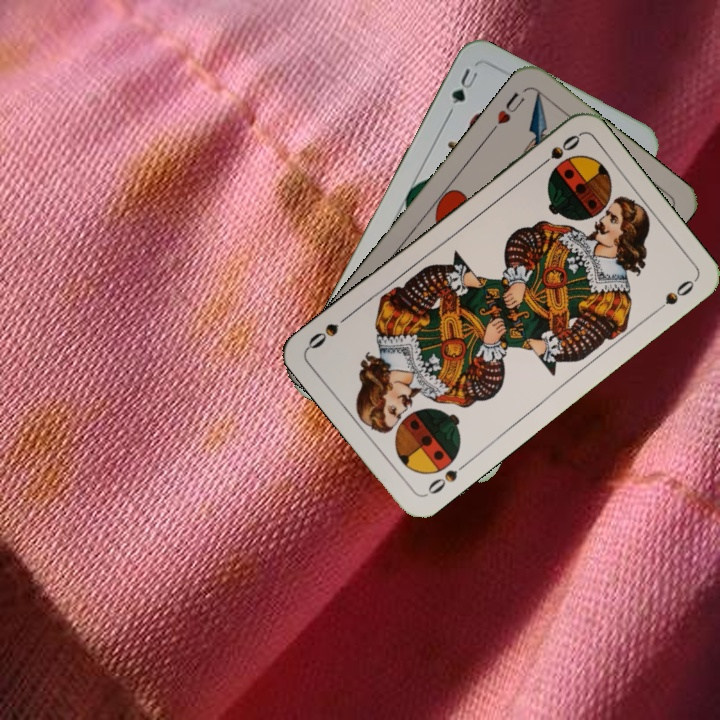GU: (444, 64, 480, 116)
HU: (486, 87, 528, 136)
SO: (532, 130, 583, 173), (421, 457, 471, 499)
